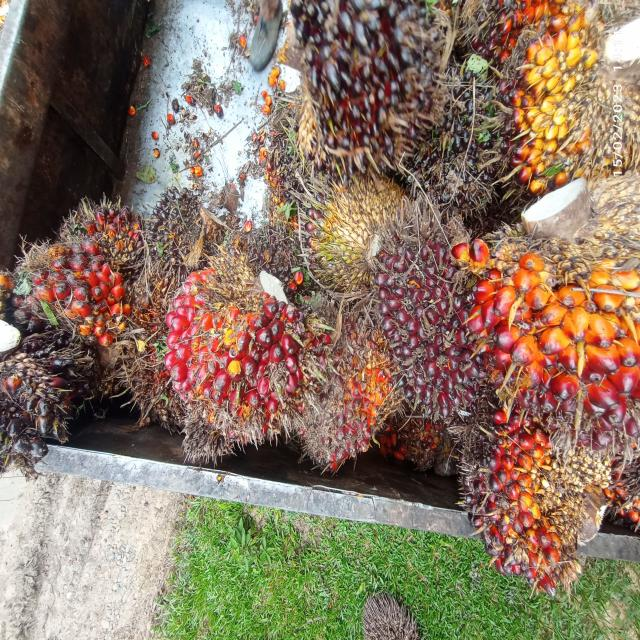fraksi 00: (391, 39, 528, 210), (146, 164, 233, 281)
fraksi 1: (452, 384, 620, 592), (352, 194, 494, 436)
fraksi 3: (460, 153, 640, 472), (137, 249, 330, 458), (17, 192, 155, 364), (291, 286, 394, 482)
